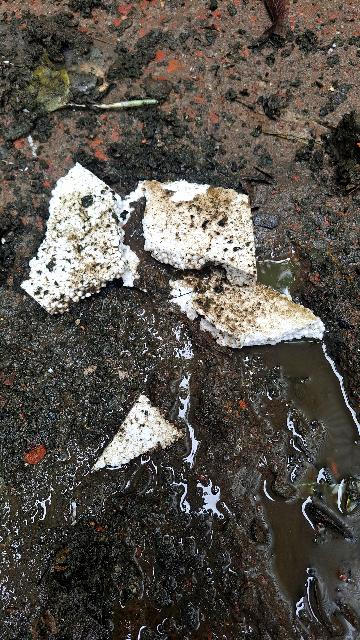cocksheet: (18, 144, 345, 380)
